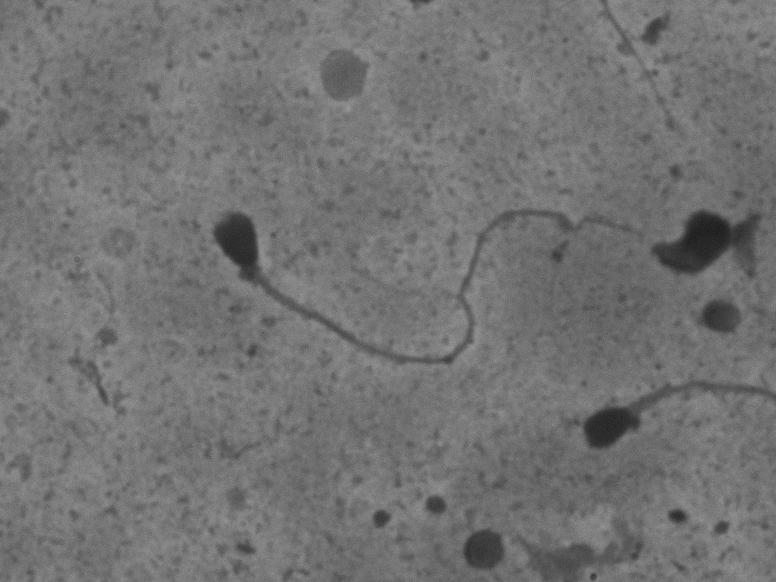Abnormal: (190, 151, 608, 388), (557, 362, 769, 472)
